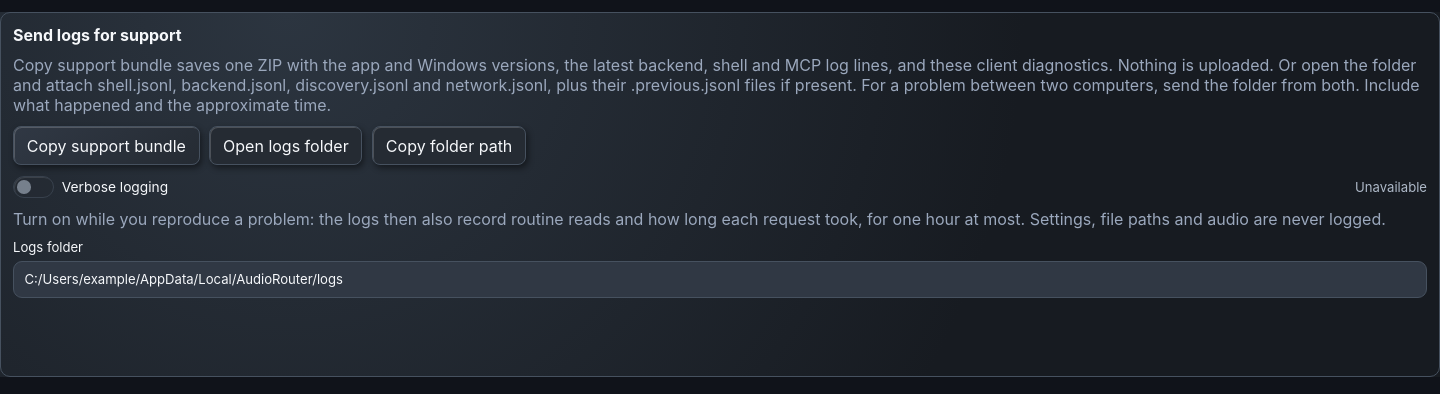
Test case: opens the fixed logs folder and copies its path
Expected: the field showing "C:/Users/example/AppData/Local/AudioRouter/logs" is shown, [13,260,1427,298]
Click the button "Open logs folder" at (286, 146), box [209,126,362,165]
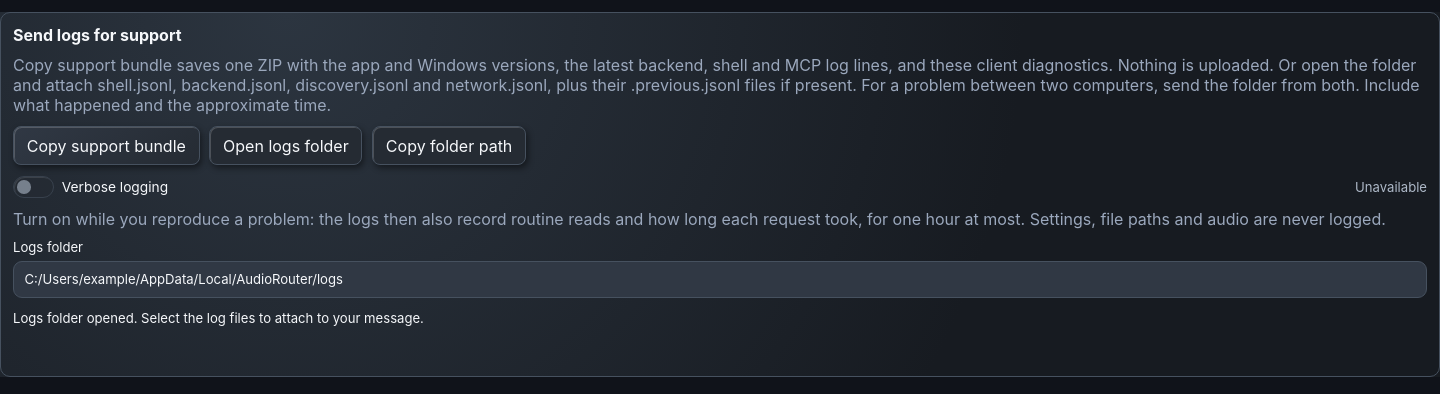
Expected: the text "Logs folder opened. Select the log files to attach to your message." is shown, [13,310,424,326]
Click the button "Copy folder path" at (449, 146), box [372,126,526,165]
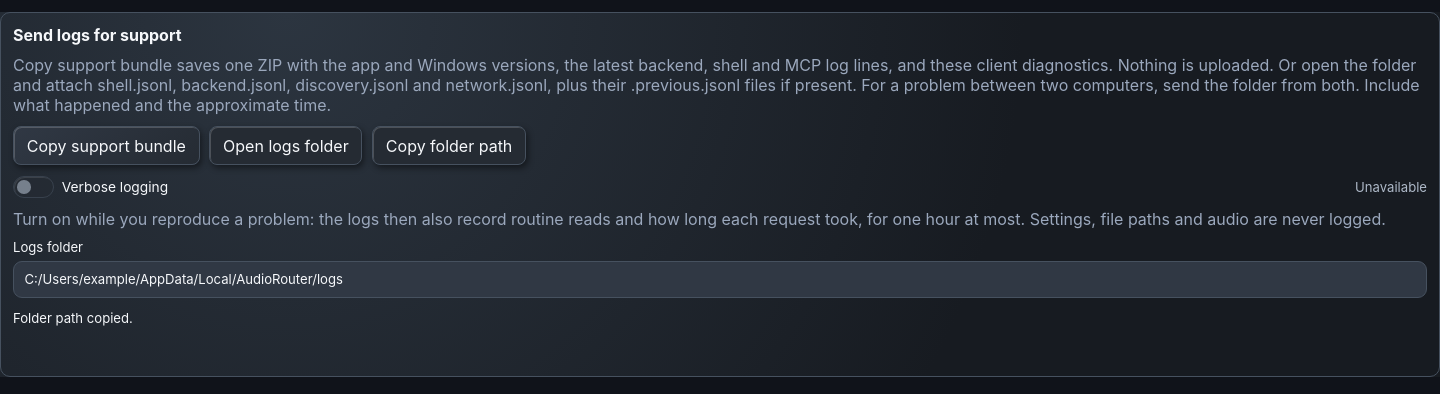
Expected: the text "attach shell.jsonl" shows "discovery.jsonl", [13,55,1420,115]
Expected: the text "Folder path copied." is shown, [13,310,133,326]
